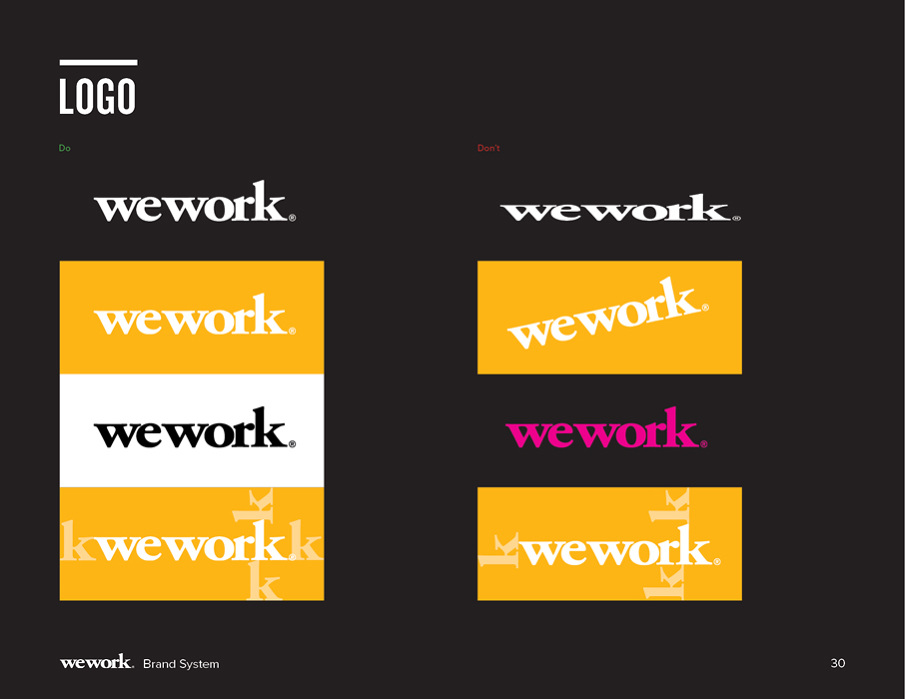wework: (504, 275, 702, 351), (91, 402, 286, 453), (90, 178, 287, 225), (502, 405, 699, 452), (92, 290, 286, 337), (496, 191, 732, 226), (59, 650, 130, 671)
